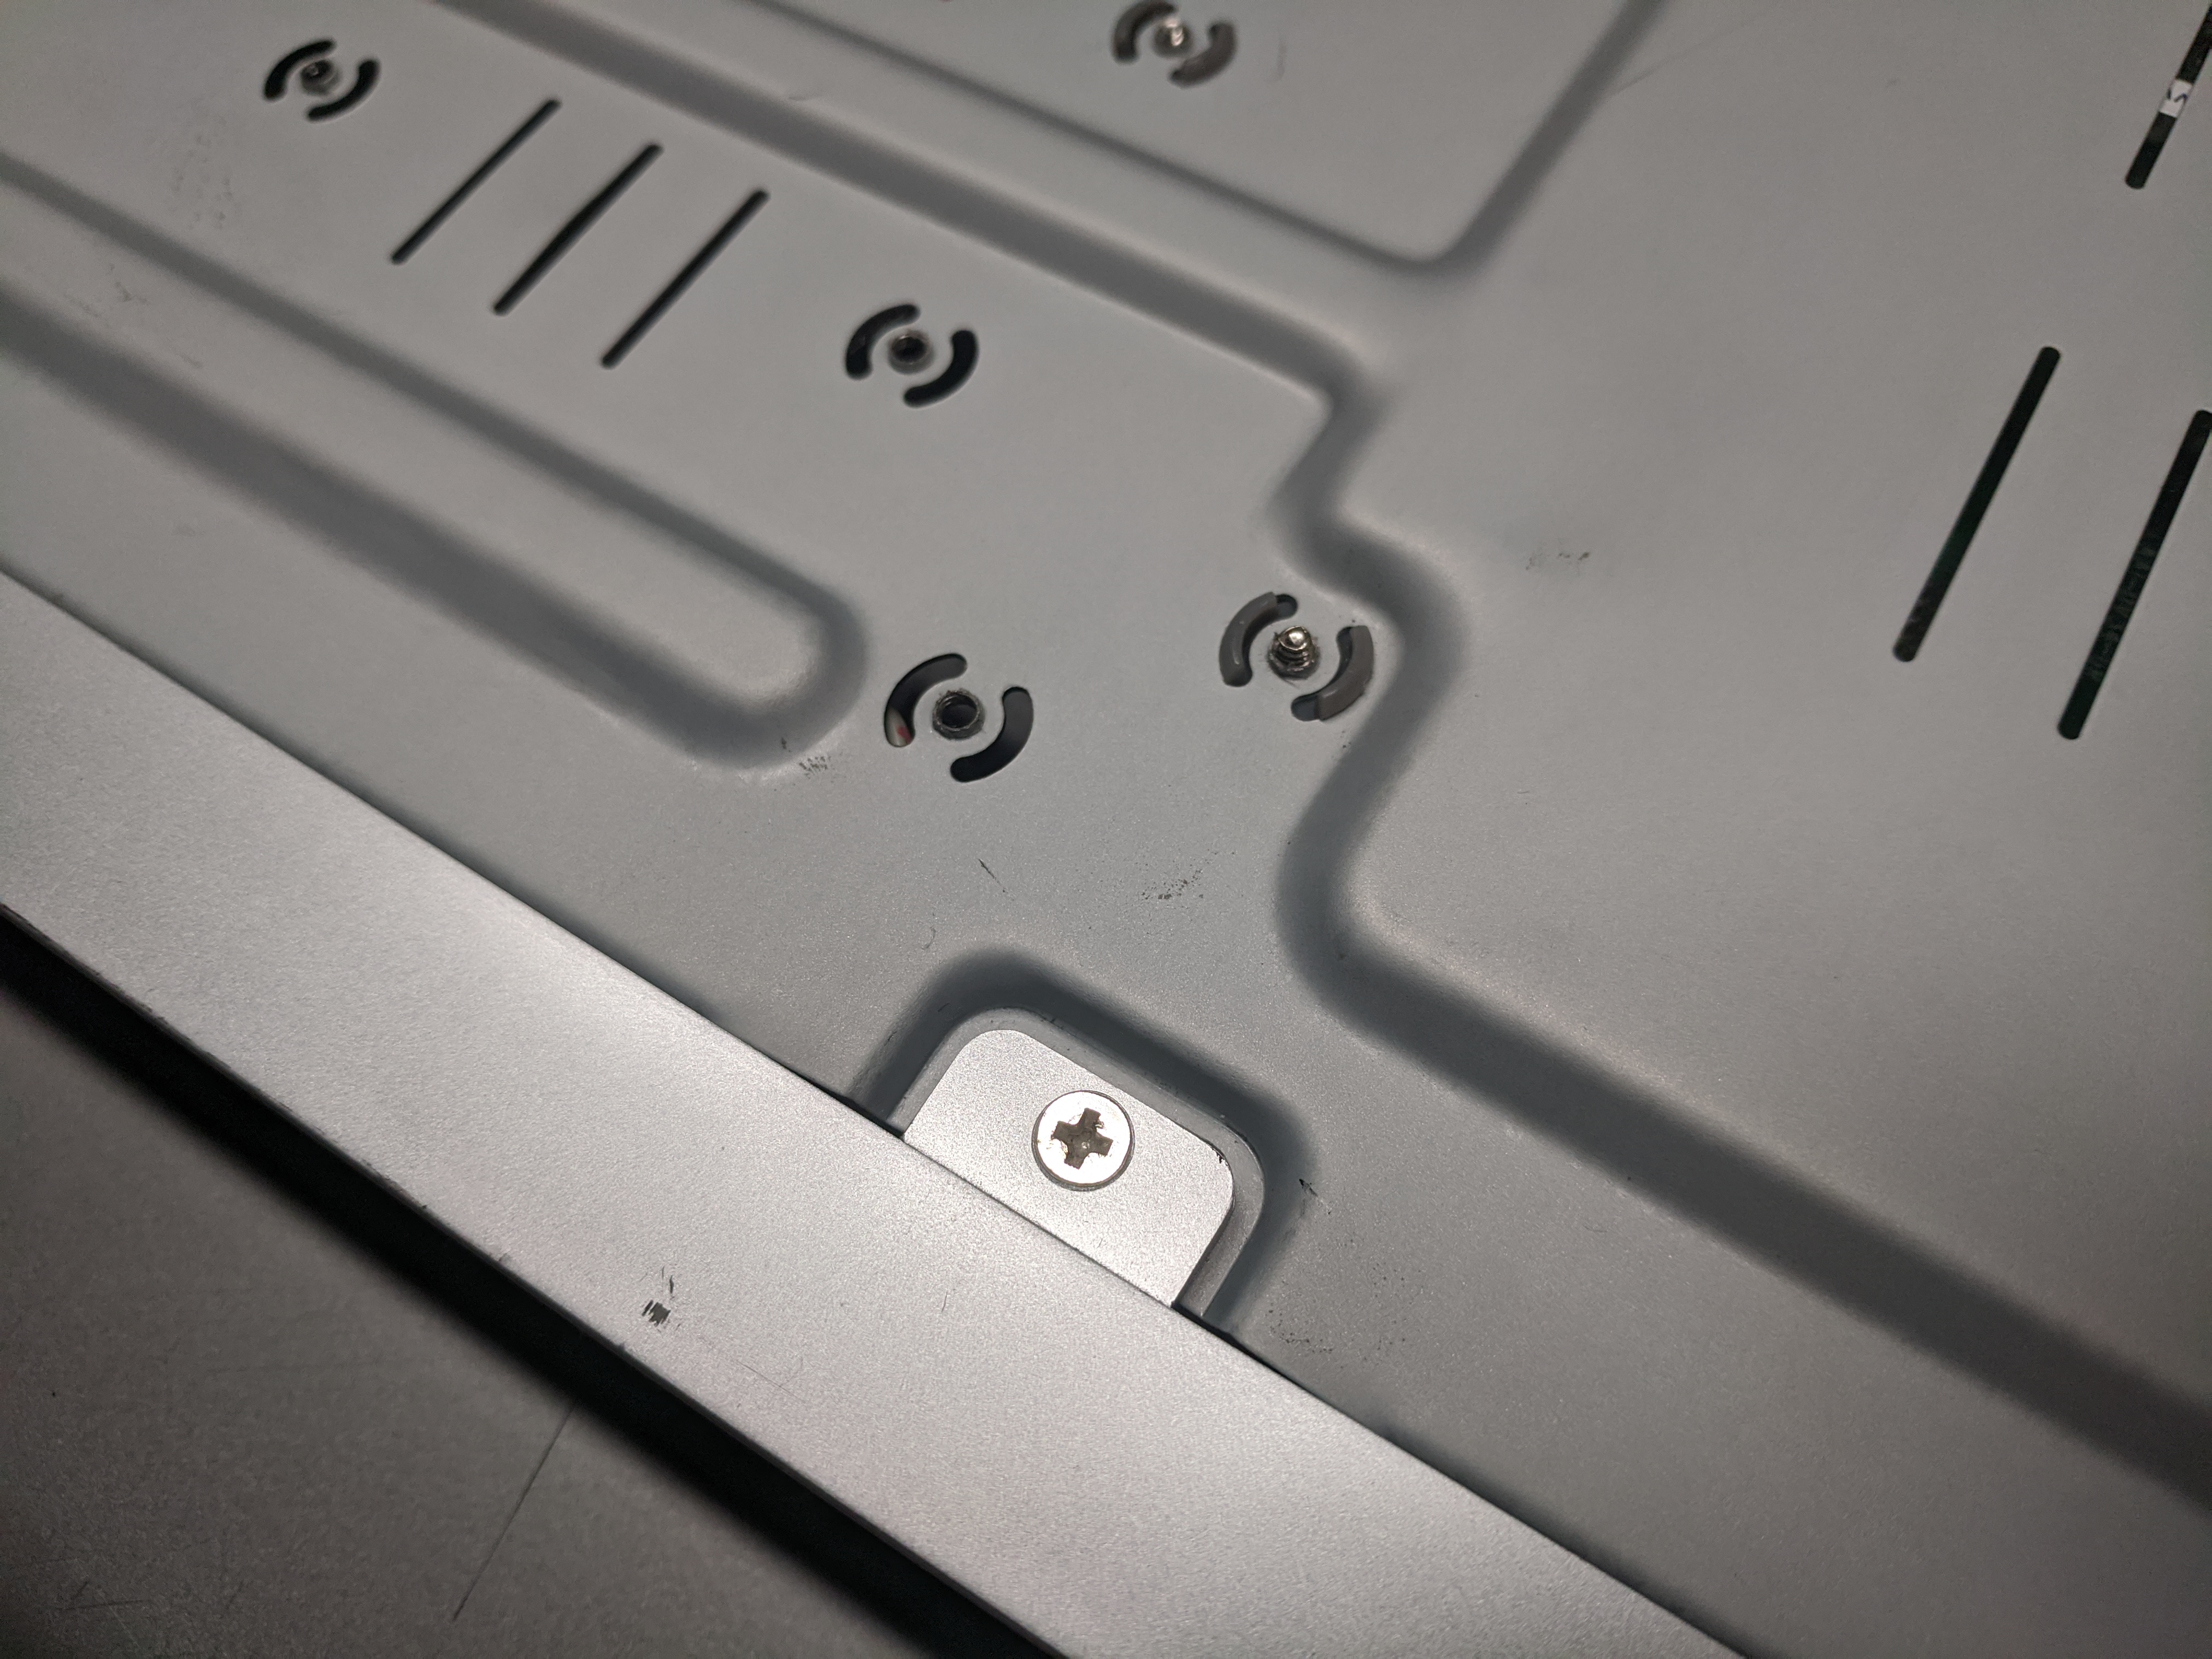cross_recessed_screw: (1017, 1075, 1144, 1190)
